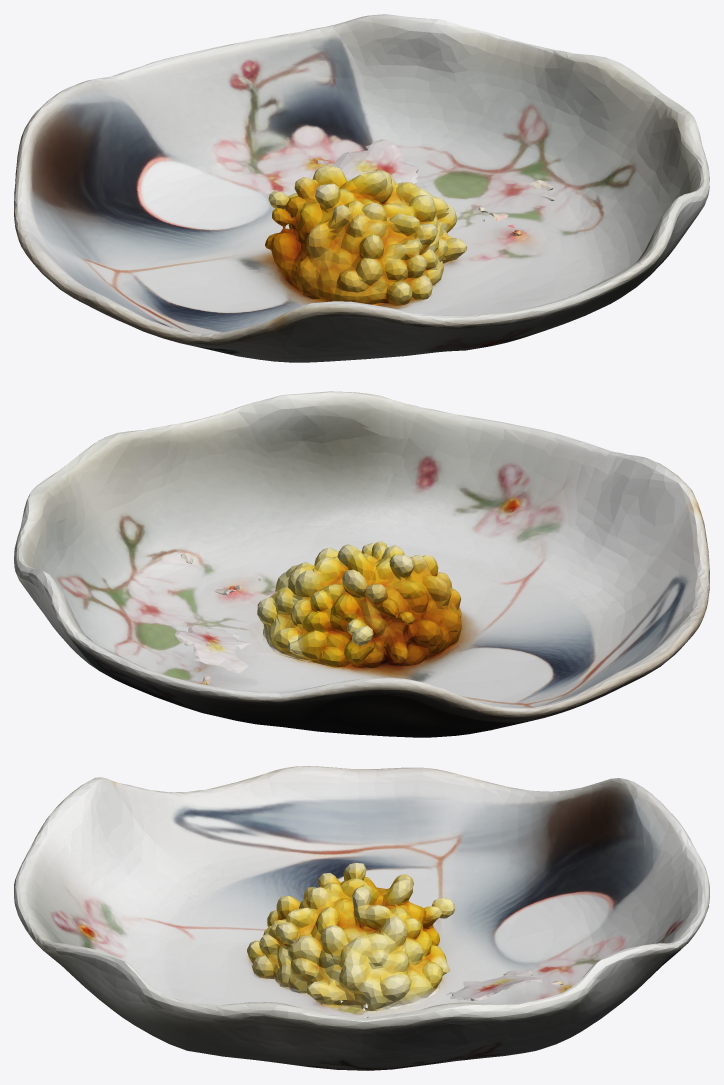
Rendered from porcelain-caviar-dish-japanese.jpeg.glb.
The picture shows the model from 3 angles, top to bottom: view 1: azimuth 30°, elevation 25°; view 2: azimuth 150°, elevation 25°; view 3: azimuth 270°, elevation 25°; orthographic projection.
Parts seen in each view (by area): view 1: world; view 2: world; view 3: world.
Boxes of the visible parts, <box> form: world: <box>14,14,709,362</box>; world: <box>14,391,709,737</box>; world: <box>14,766,709,1070</box>.
Size of the model in its own units: 0.9959 by 0.1831 by 0.9997.
1 material, 1 textured.
